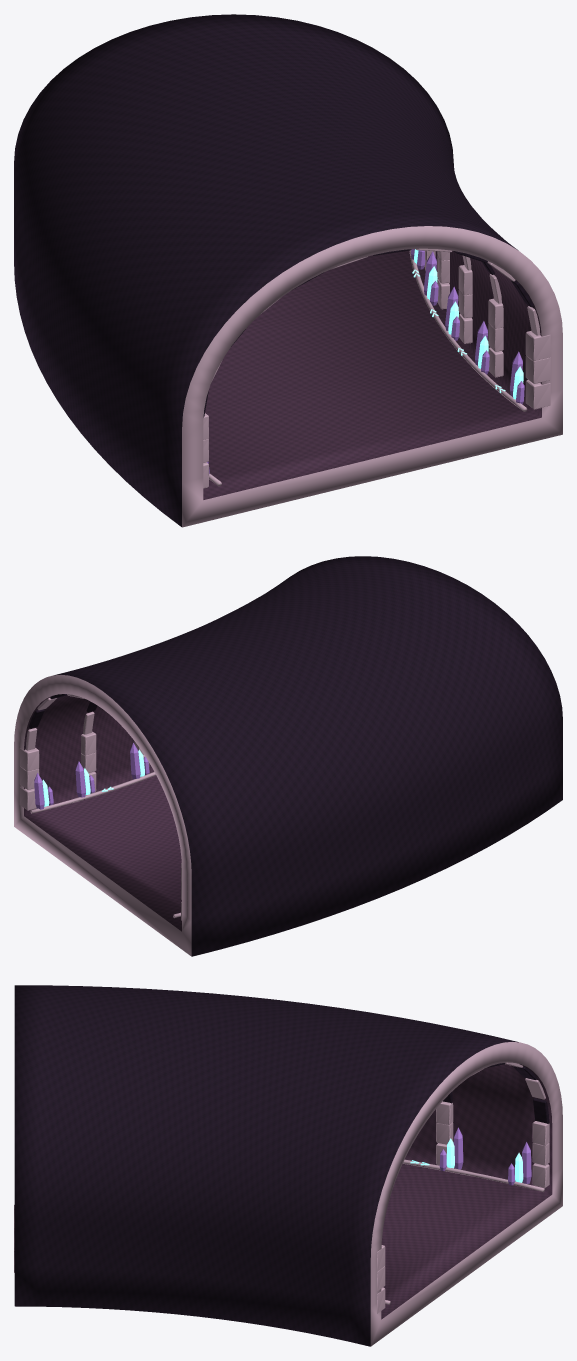
The model's file is curve_right_30_lod1.glb.
3 renders of one model, top to bottom at view 1: azimuth 30°, elevation 25°; view 2: azimuth 150°, elevation 25°; view 3: azimuth 270°, elevation 25°, orthographic. The views are drawn at different scales.
Parts seen in each view (by area): view 1: TunnelGeometry.001; view 2: TunnelGeometry.001; view 3: TunnelGeometry.001.
Boxes of the visible parts, x1,y1,x2,y2 form: TunnelGeometry.001: (14,14,562,527); TunnelGeometry.001: (14,556,562,956); TunnelGeometry.001: (14,985,562,1346).
Size of the model in its own units: 19.1 by 9.52 by 21.85.
5 materials, 2 textured.
